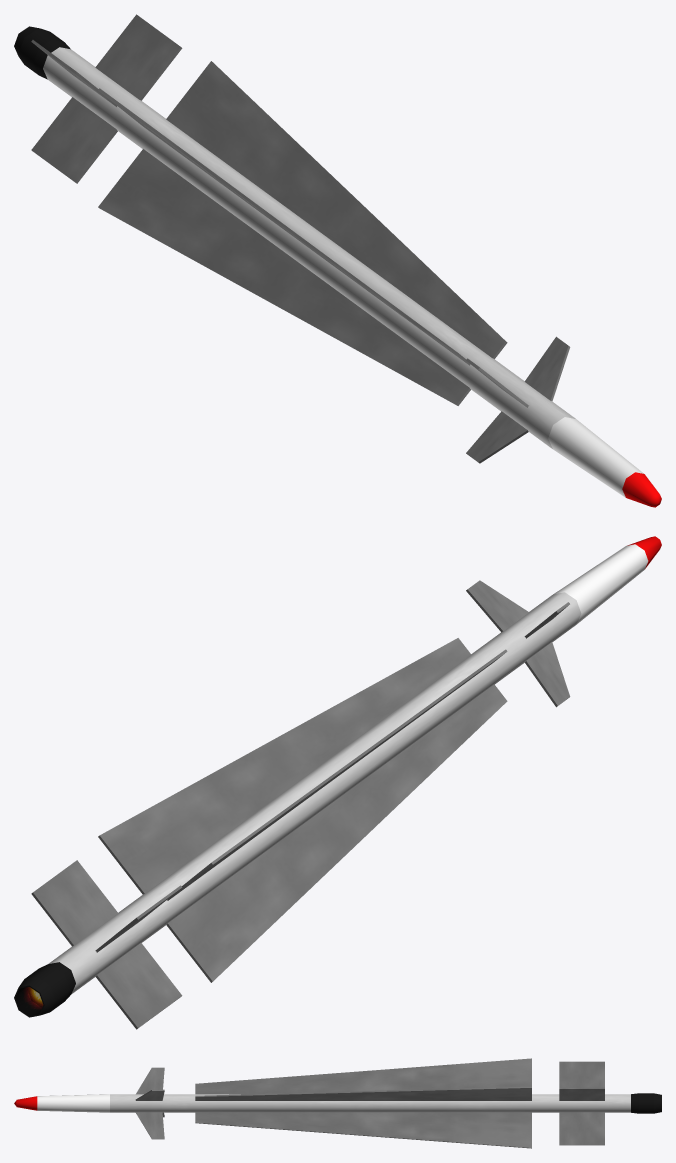
Rendered from asca.obj.
The picture shows the model from 3 angles, top to bottom: view 1: azimuth 30°, elevation 25°; view 2: azimuth 150°, elevation 25°; view 3: azimuth 270°, elevation 25°; orthographic projection. The views are drawn at different scales.
Parts seen in each view (by area): view 1: missile; view 2: missile; view 3: missile.
Boxes of the visible parts, left/top/right/bottom form: missile: left=14, top=14, right=661, bottom=507; missile: left=14, top=536, right=661, bottom=1029; missile: left=14, top=1058, right=661, bottom=1148.
Bounding box in the file's own units: 0.391 × 0.3911 × 3.7.
